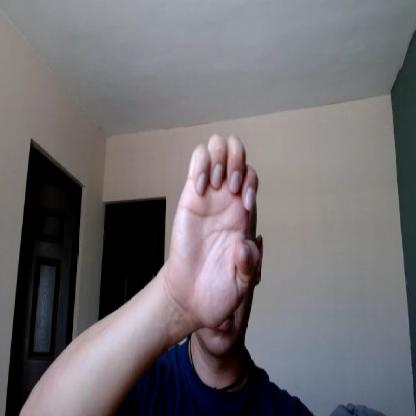E: (169, 133, 261, 321)
